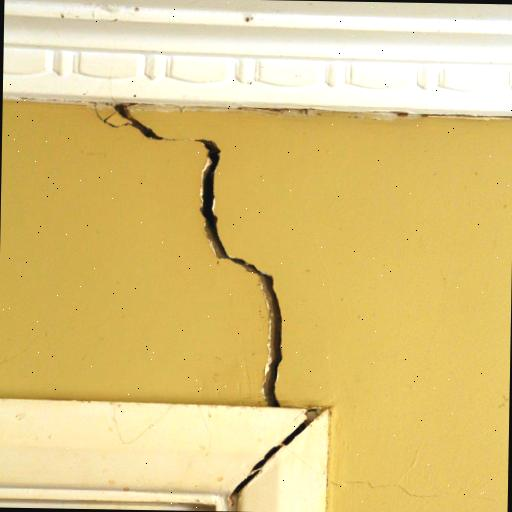spalling: (107, 106, 291, 399)
